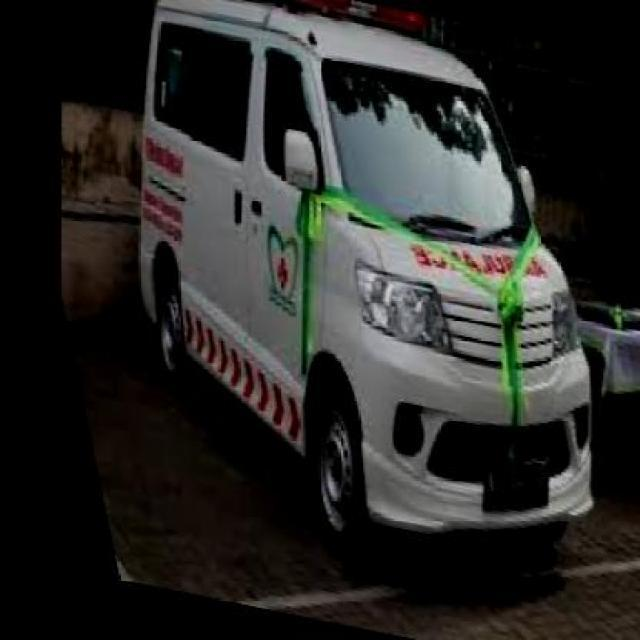emergency-vehicle: (31, 0, 640, 600)
